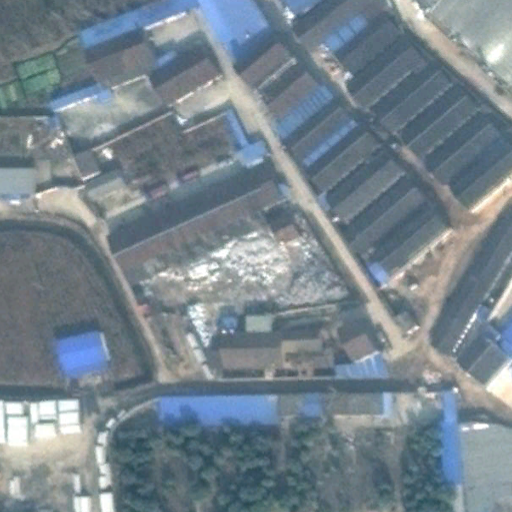msw: (155, 233, 350, 339)
